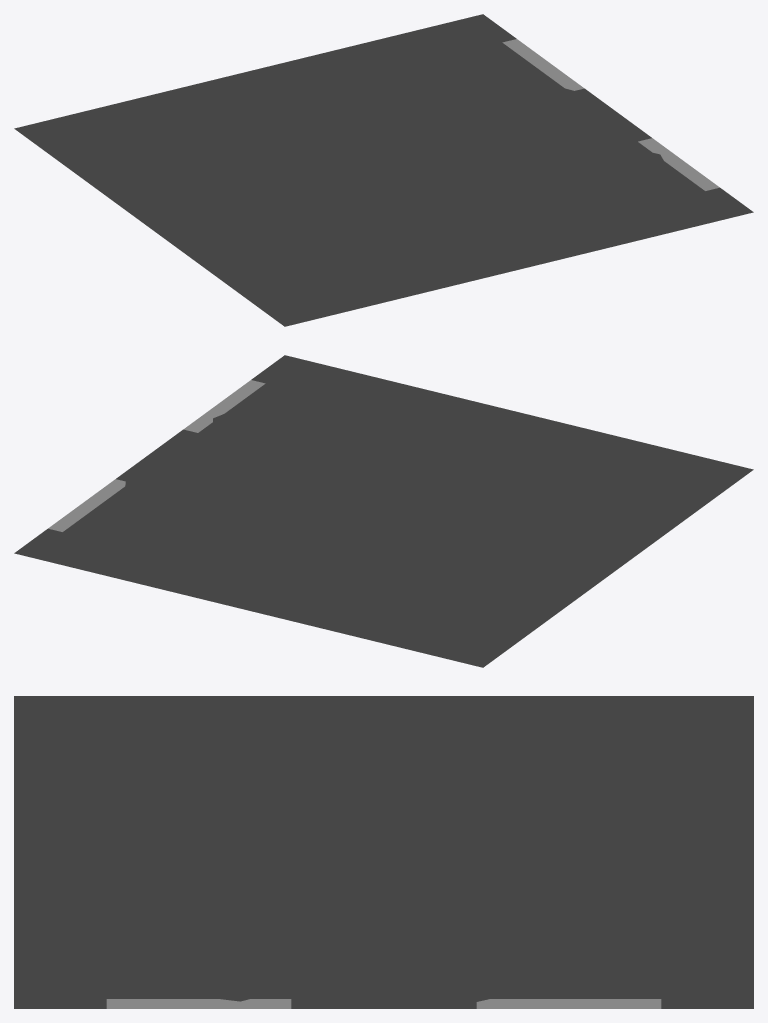
File: SM_Env_Road_01.fbx
The picture shows the model from 3 angles, top to bottom: view 1: azimuth 30°, elevation 25°; view 2: azimuth 150°, elevation 25°; view 3: azimuth 270°, elevation 25°; orthographic projection. The views are drawn at different scales.
Visible parts, largest first — view 1: SM_Env_Road_01; view 2: SM_Env_Road_01; view 3: SM_Env_Road_01.
Boxes of the visible parts, x1,y1,x2,y2 form: SM_Env_Road_01: [14, 14, 753, 326]; SM_Env_Road_01: [14, 355, 753, 667]; SM_Env_Road_01: [14, 696, 753, 1008].
Size of the model in its own units: 5 by 1.12e-08 by 5.
